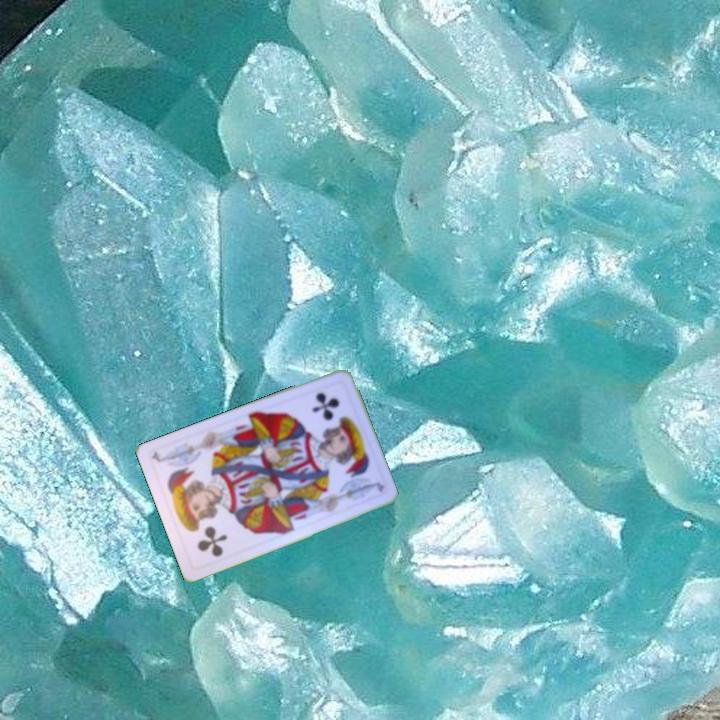c_j.png: (168, 489, 245, 571), (290, 377, 366, 459)
